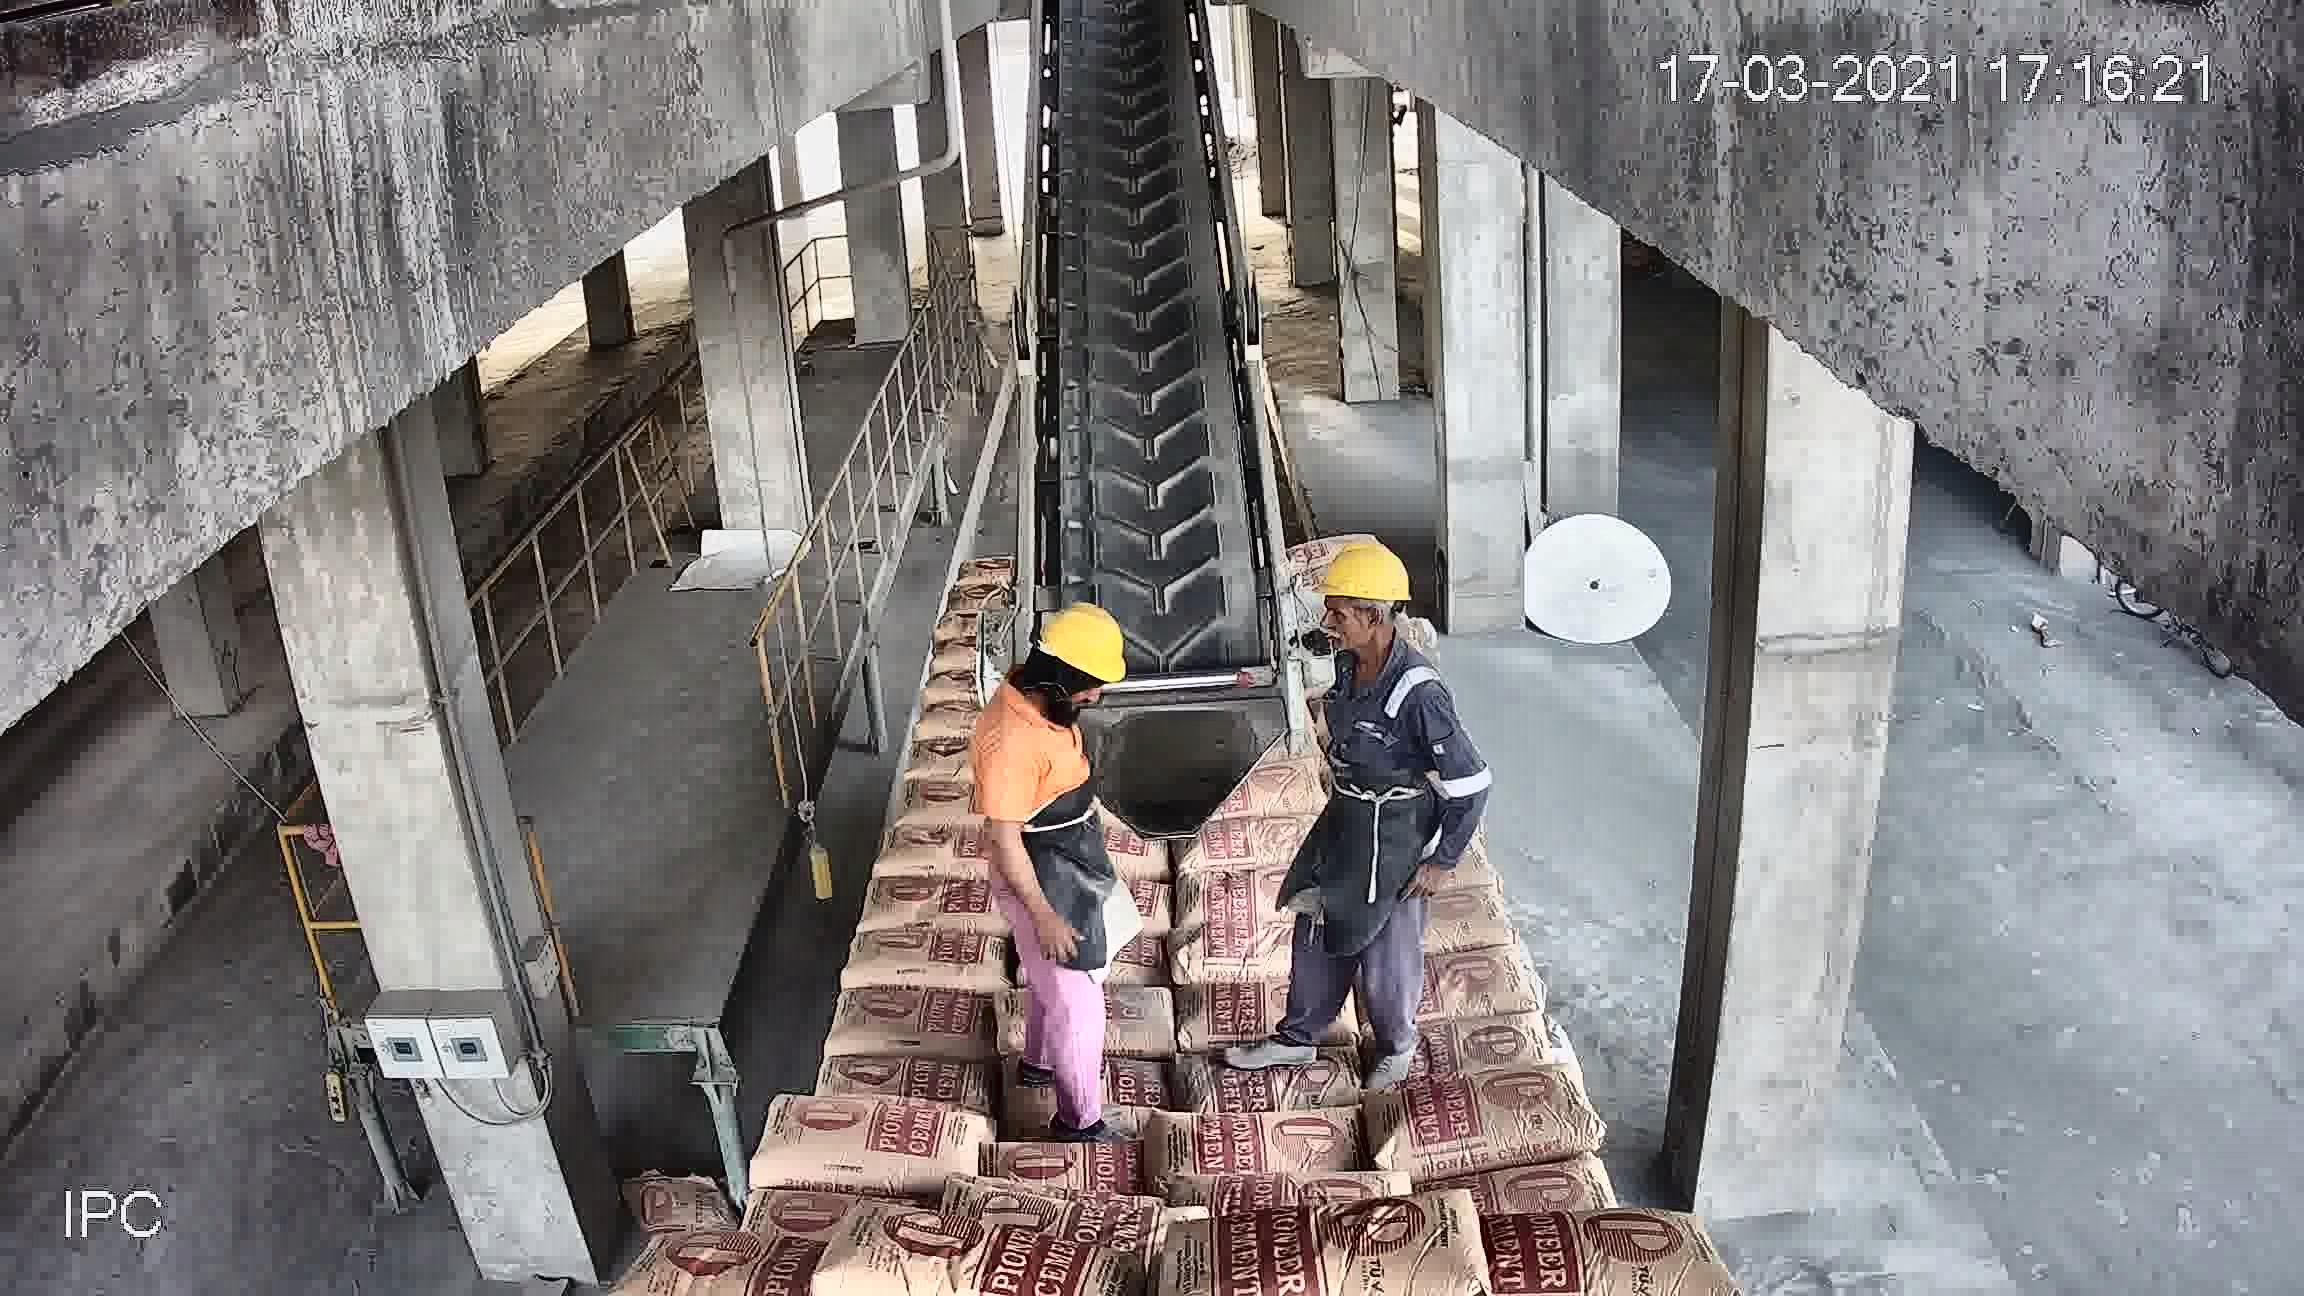bag_h: (1355, 1063, 1598, 1185), (794, 1215, 1135, 1296), (752, 1097, 999, 1193), (1150, 1106, 1377, 1201), (1184, 1033, 1359, 1112), (829, 978, 995, 1060), (1010, 1048, 1182, 1125), (820, 1036, 1003, 1109), (642, 1231, 842, 1294), (994, 1138, 1166, 1206), (1416, 946, 1541, 1038), (1418, 1003, 1571, 1074), (840, 919, 1014, 981), (1177, 864, 1291, 949), (1169, 927, 1302, 991), (856, 866, 991, 927), (1188, 812, 1302, 878), (1180, 981, 1291, 1044), (862, 824, 991, 870)
belt: (1014, 24, 1279, 742)
